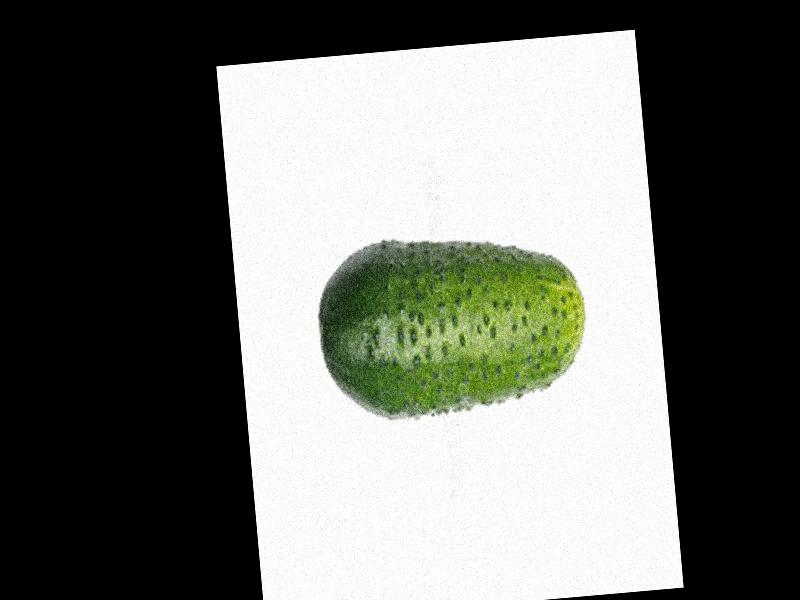Cucumber: (311, 223, 594, 428)
